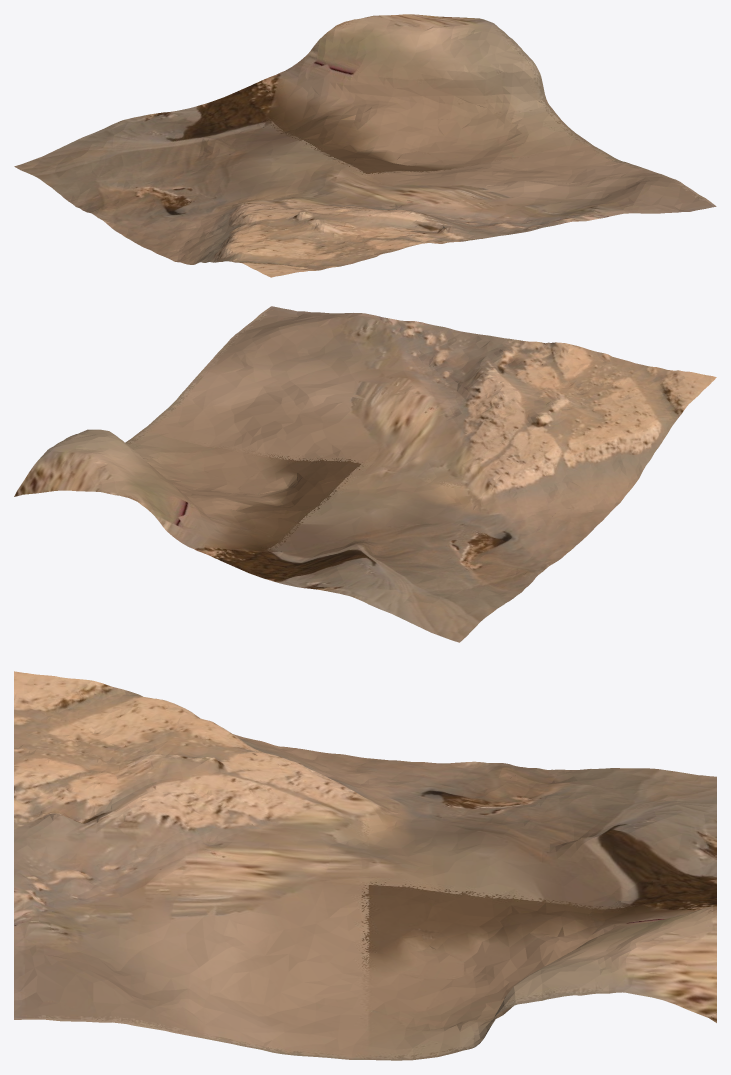
3 views of the same model, one above another, from view 1: azimuth 30°, elevation 25°; view 2: azimuth 150°, elevation 25°; view 3: azimuth 270°, elevation 25° (orthographic). The views are drawn at different scales.
Size of the model in its own units: 2.09 by 0.3462 by 2.09.
Materials: 2 (2 with a texture image).
